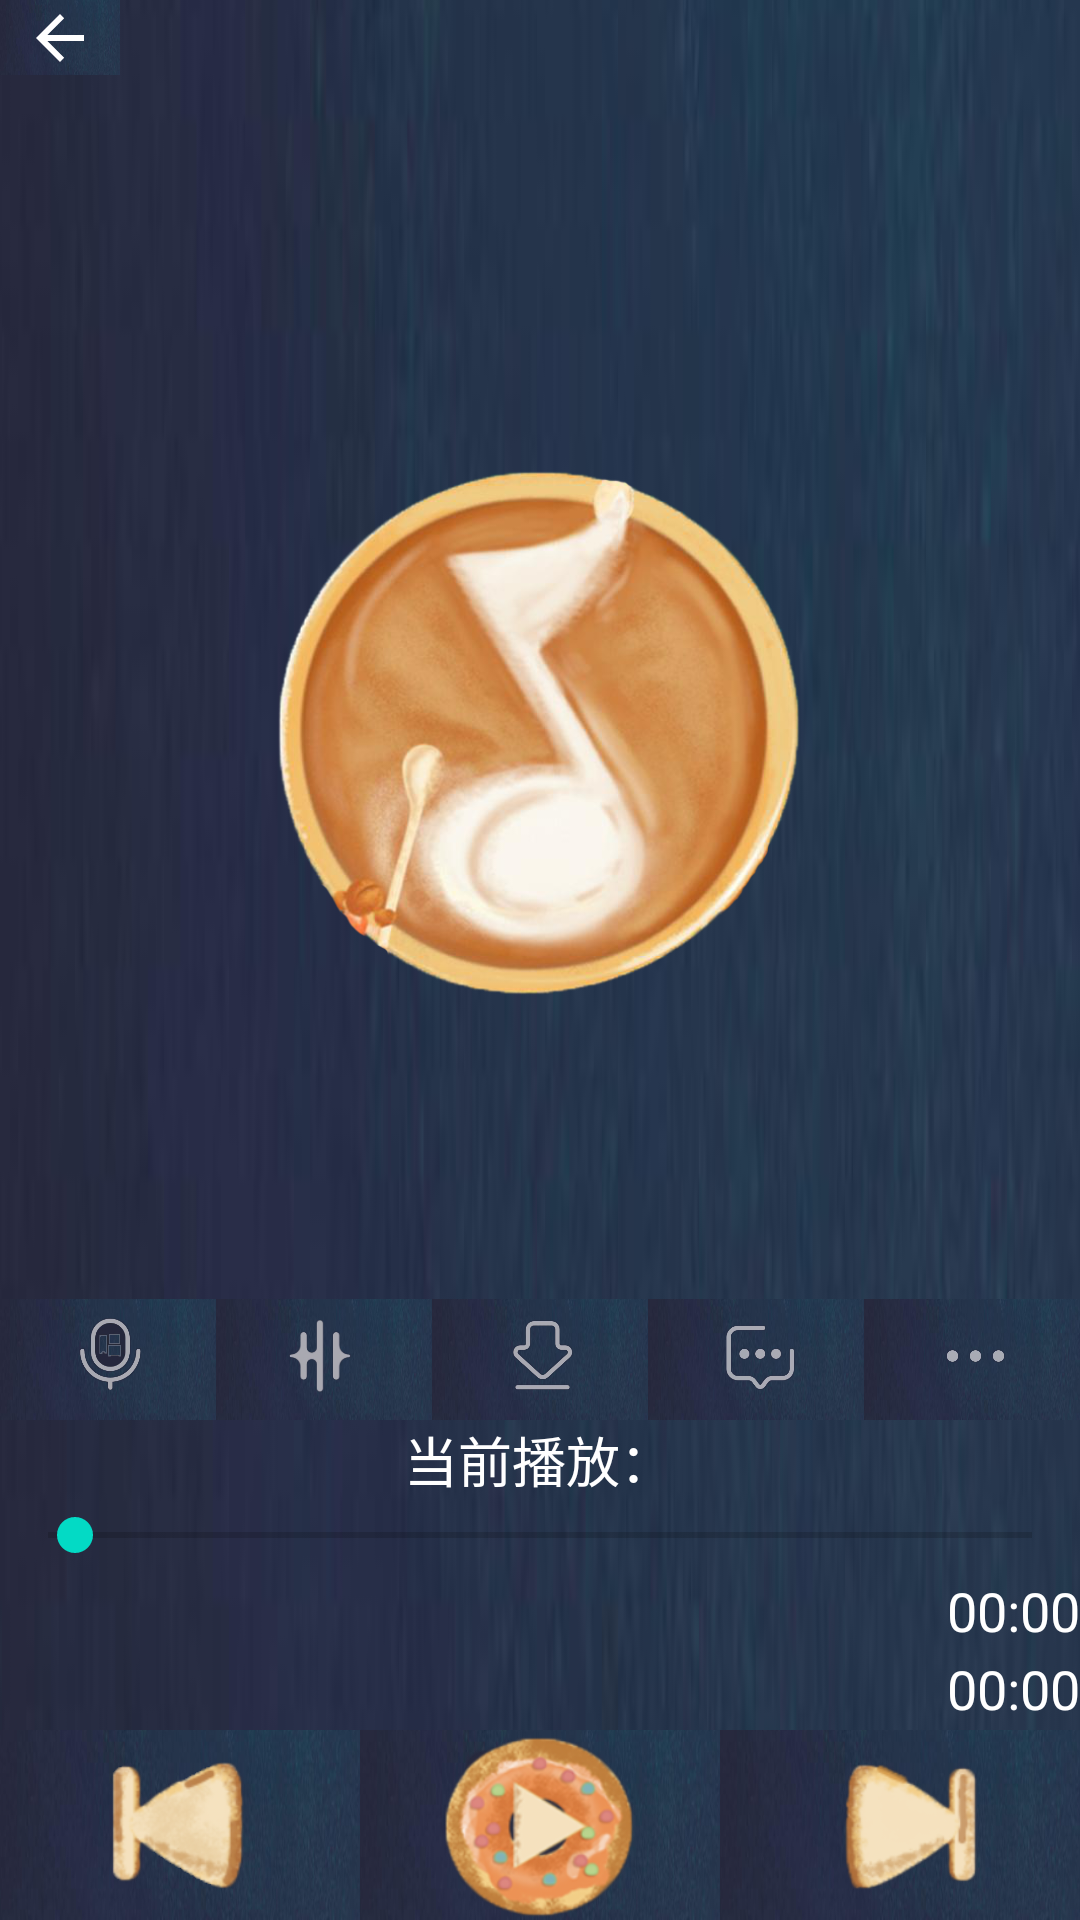

Where icons sit on this 1080 x 1920 app screen, as (x1, y1, x2, y2):
next: (846, 1765, 976, 1889)
